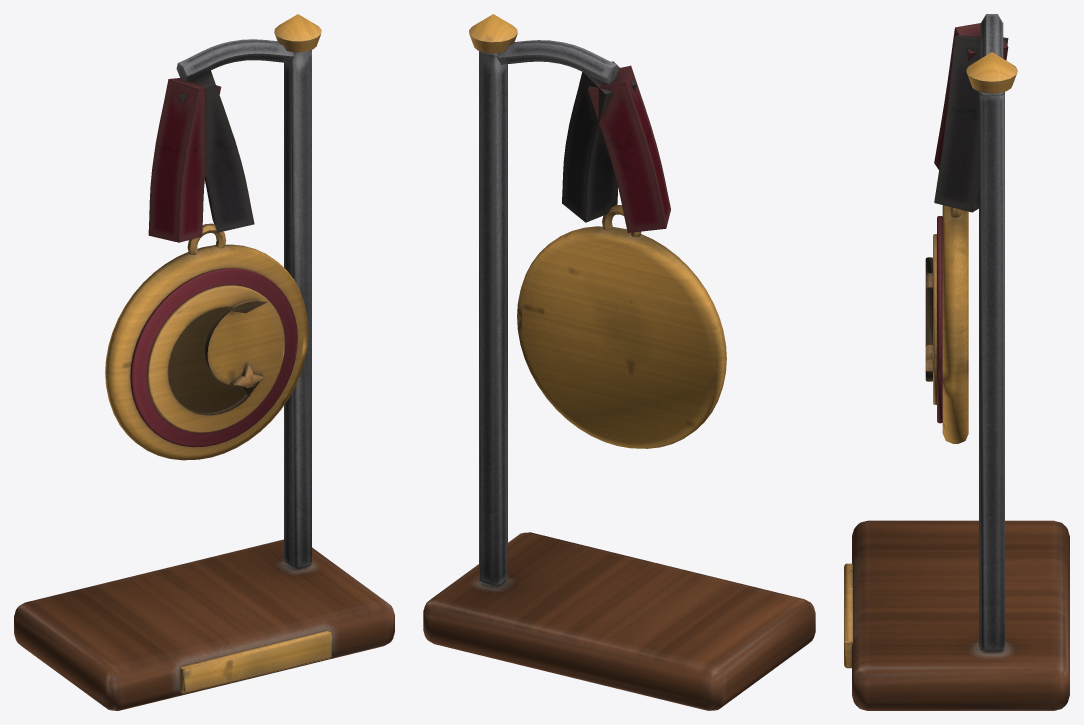
File: PathMedalSupernatural.fbx
3 views of the same model, side by side, from view 1: azimuth 30°, elevation 25°; view 2: azimuth 150°, elevation 25°; view 3: azimuth 270°, elevation 25° (orthographic). The views are drawn at different scales.
Visible parts, largest first — view 1: PathMedalSupernatural; view 2: PathMedalSupernatural; view 3: PathMedalSupernatural.
Part boxes in pixels (<box>): PathMedalSupernatural: <box>14,14,394,710</box>; PathMedalSupernatural: <box>423,14,815,710</box>; PathMedalSupernatural: <box>844,14,1069,710</box>.
Bounding box in the file's own units: 70 × 137 × 43.5.
